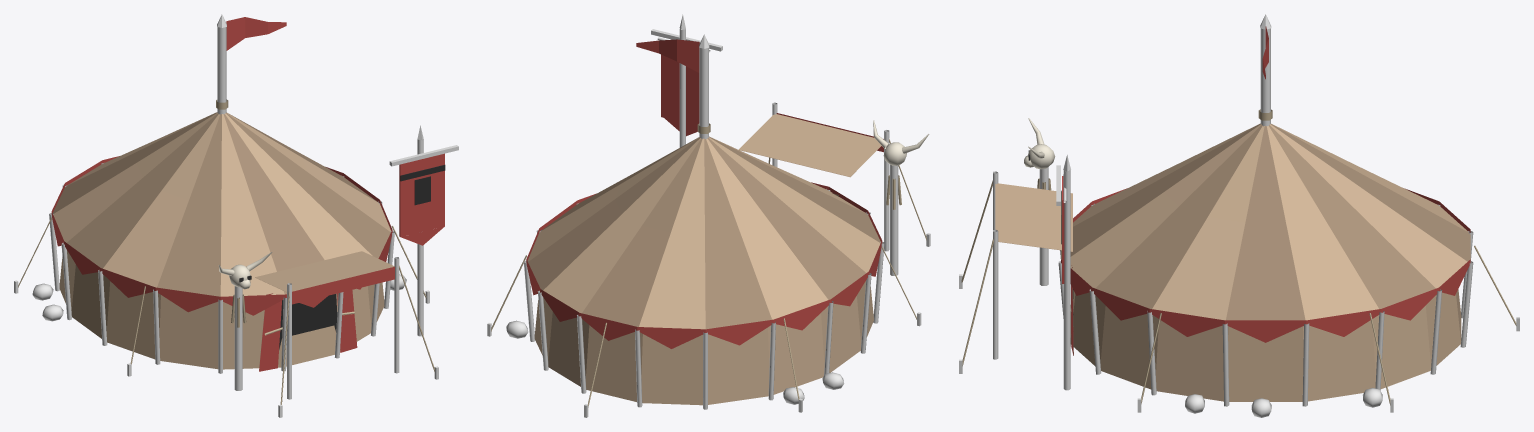
File: tent_large.glb
The picture shows the model from 3 angles, left to right: view 1: azimuth 30°, elevation 25°; view 2: azimuth 150°, elevation 25°; view 3: azimuth 270°, elevation 25°; orthographic projection. The views are drawn at different scales.
Visible parts, largest first — view 1: tent_large; view 2: tent_large; view 3: tent_large.
Boxes of the visible parts, left/top/right/bottom form: tent_large: left=14, top=14, right=458, bottom=417; tent_large: left=487, top=14, right=930, bottom=417; tent_large: left=959, top=14, right=1519, bottom=417.
Size of the model in its own units: 7.11 by 6.15 by 9.75.
